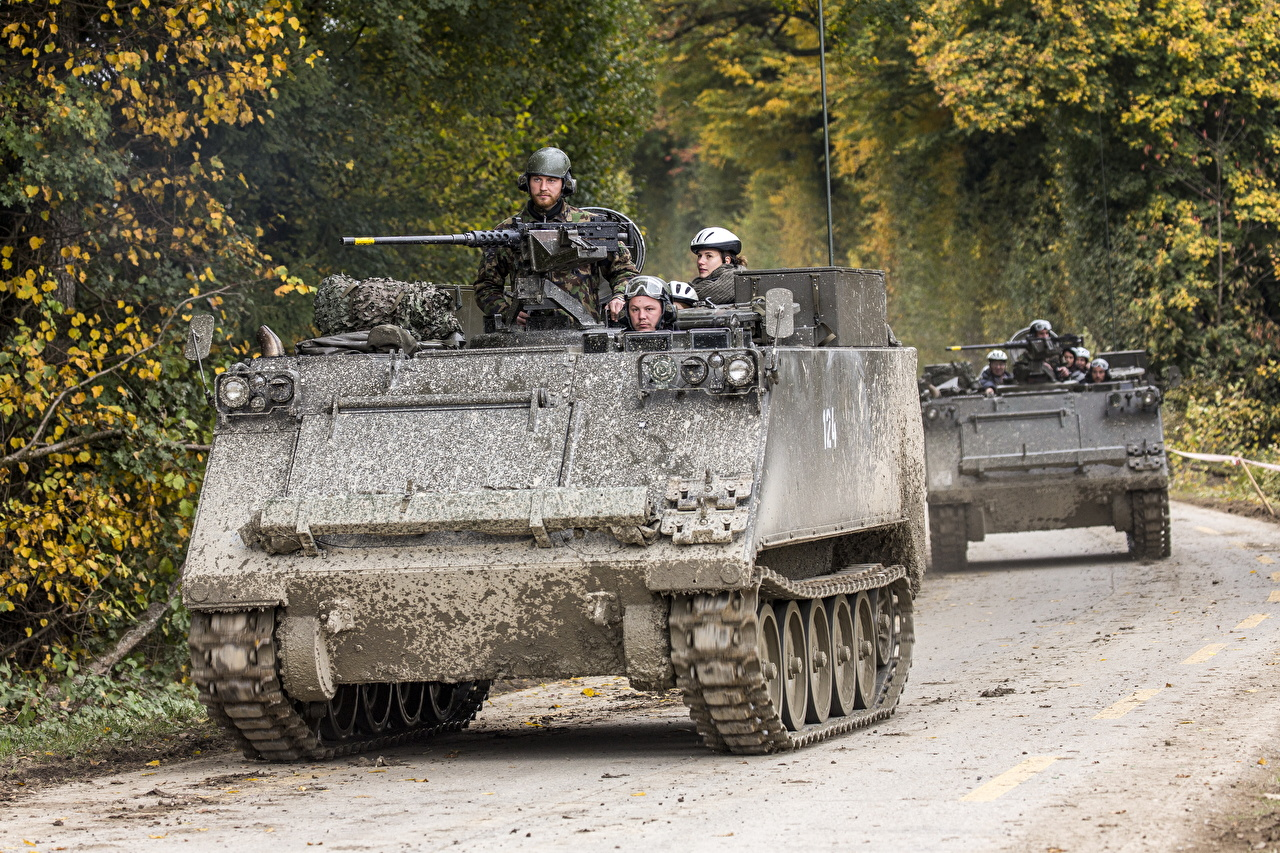btr: (205, 265, 946, 755), (918, 342, 1173, 566)
pilot: (458, 144, 638, 345), (672, 225, 768, 303), (599, 268, 688, 347), (977, 342, 1012, 396), (1085, 343, 1117, 386), (1025, 319, 1066, 347), (1071, 349, 1091, 376), (1058, 345, 1076, 372)
